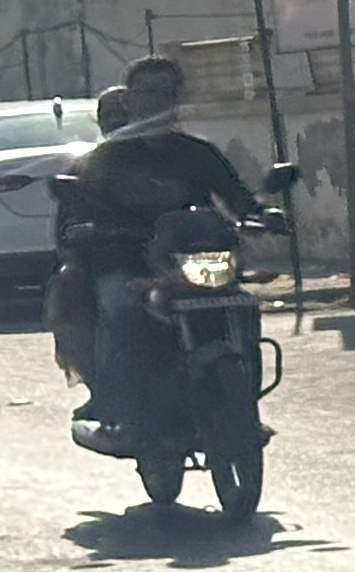BikeWithRider: (39, 47, 308, 526)
NoHelmet: (119, 47, 187, 140), (90, 80, 143, 155)
